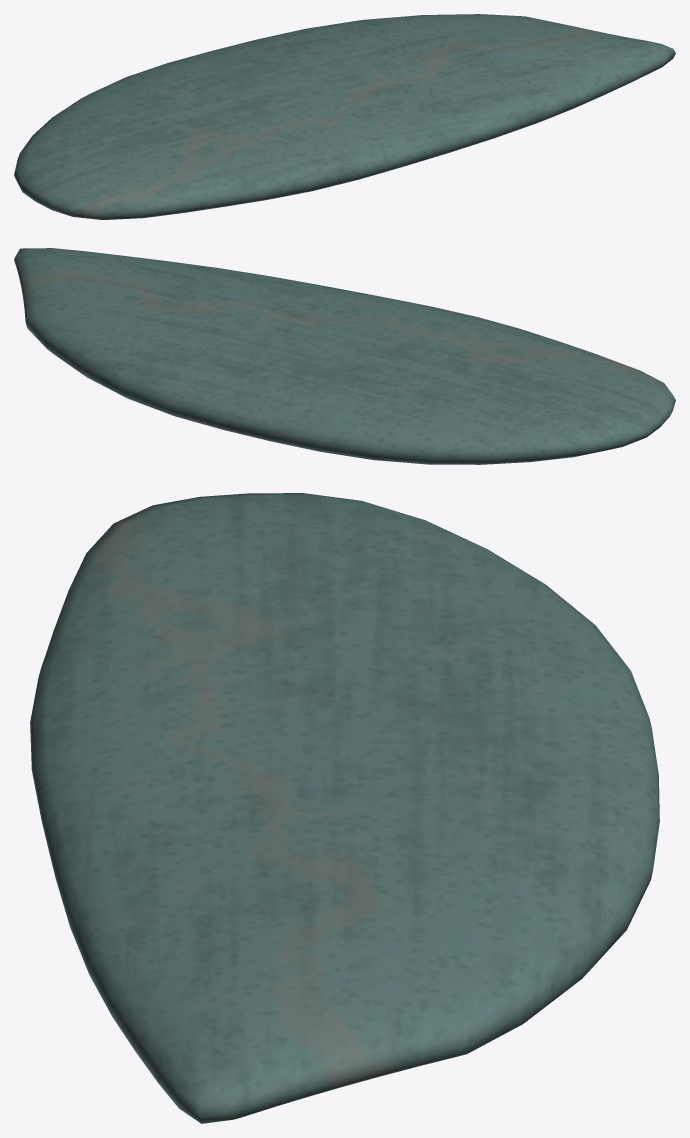
The model's file is willow_leaf_03.glb.
3 renders of one model, top to bottom at view 1: azimuth 30°, elevation 25°; view 2: azimuth 150°, elevation 25°; view 3: azimuth 270°, elevation 25°, orthographic. The views are drawn at different scales.
Parts seen in each view (by area): view 1: willow_leaf_03; view 2: willow_leaf_03; view 3: willow_leaf_03.
Boxes of the visible parts, x1=… form: willow_leaf_03: x1=14, y1=14, x2=675, y2=219; willow_leaf_03: x1=14, y1=248, x2=675, y2=464; willow_leaf_03: x1=30, y1=493, x2=659, y2=1123.
Bounding box in the file's own units: 0.1038 × 0.00735 × 0.045.
Materials: 1 (1 with a texture image).
